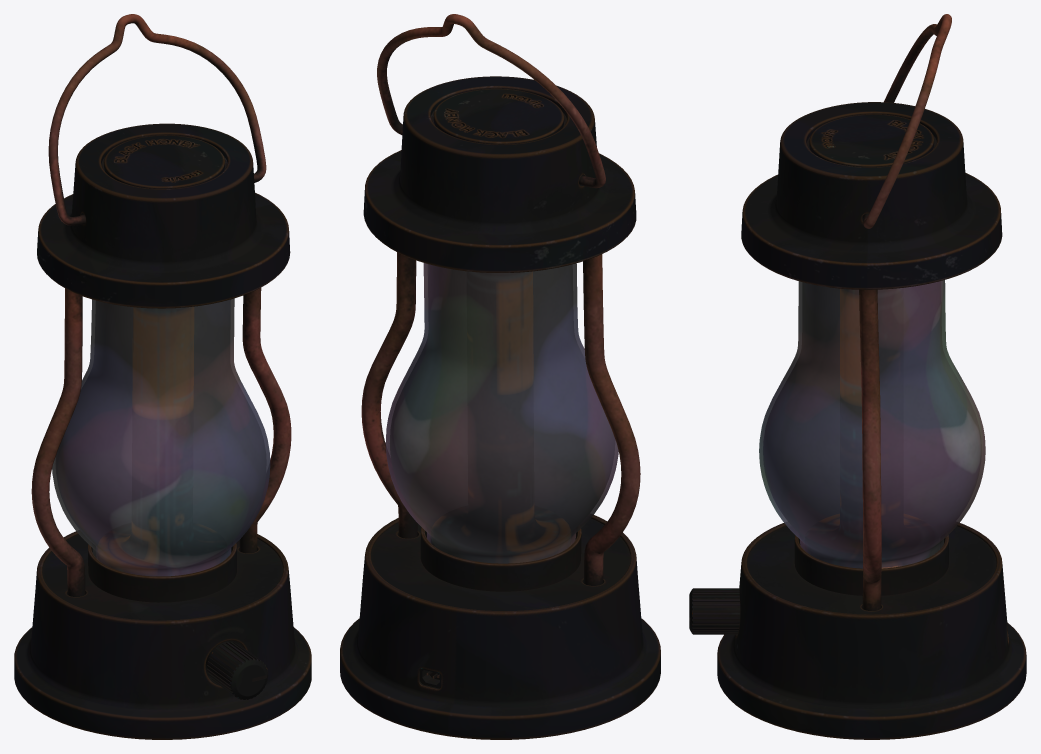
Rendered from obj_mavic_the_lantern_in_between_de5c76.glb.
The picture shows the model from 3 angles, left to right: view 1: azimuth 30°, elevation 25°; view 2: azimuth 150°, elevation 25°; view 3: azimuth 270°, elevation 25°; orthographic projection. The views are drawn at different scales.
Visible parts, largest first — view 1: obj_mavic_the_lantern_in_between_de5c76; view 2: obj_mavic_the_lantern_in_between_de5c76; view 3: obj_mavic_the_lantern_in_between_de5c76.
Boxes of the visible parts, box(x1,y1,x2,y2) form: obj_mavic_the_lantern_in_between_de5c76: box(14, 14, 311, 739); obj_mavic_the_lantern_in_between_de5c76: box(340, 14, 660, 739); obj_mavic_the_lantern_in_between_de5c76: box(689, 14, 1026, 739).
Bounding box in the file's own units: 0.1476 × 0.35 × 0.1606.
Materials: 1 (1 with a texture image).
